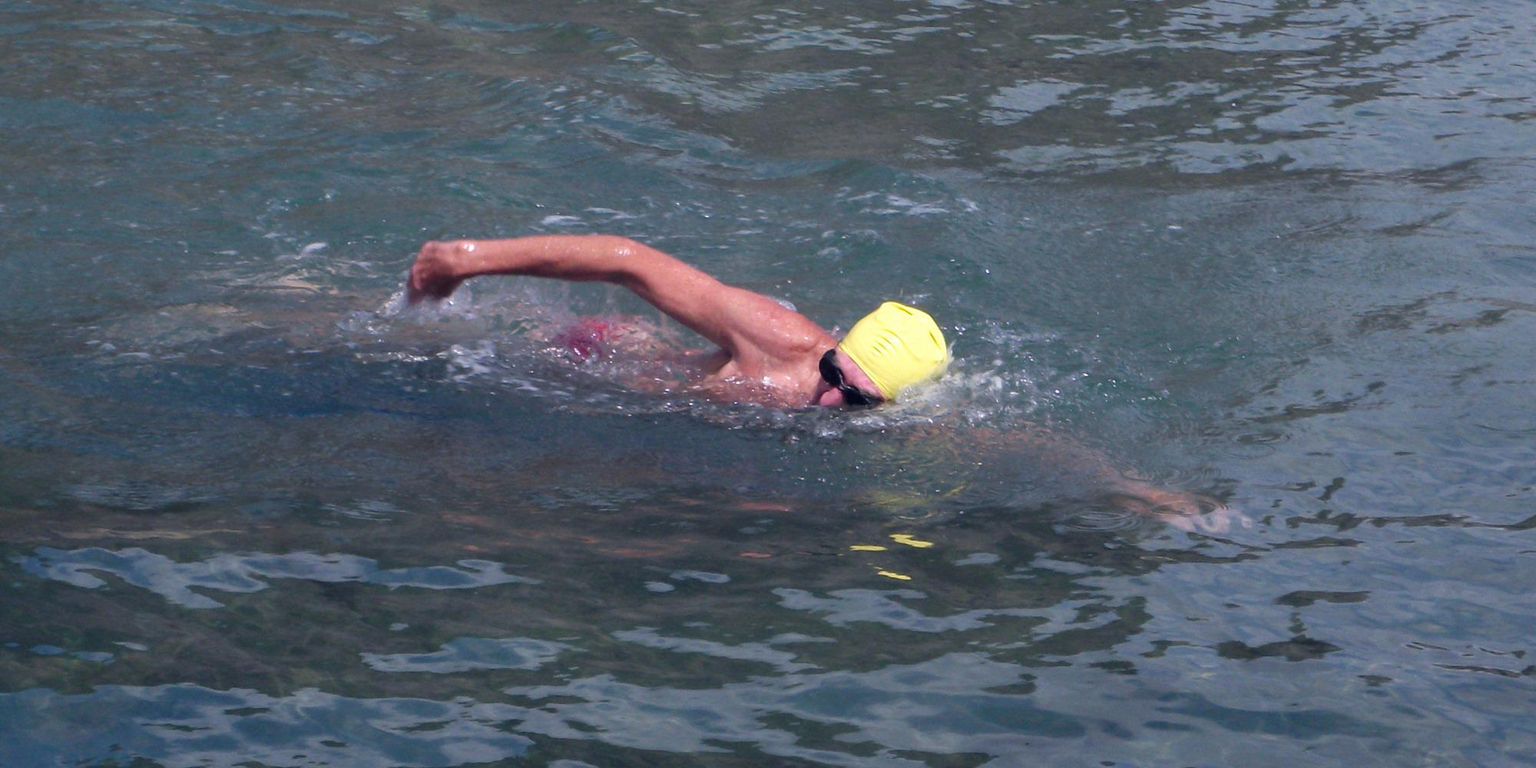swimmer: (410, 225, 972, 425)
